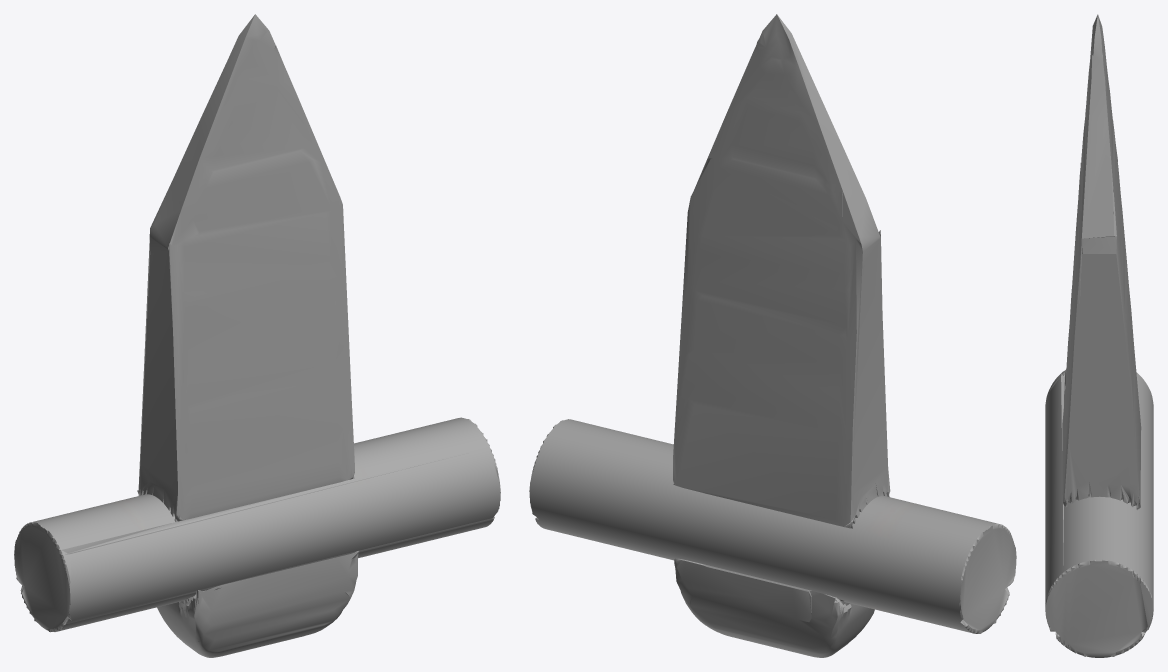
The picture shows the model from 3 angles, left to right: view 1: azimuth 30°, elevation 25°; view 2: azimuth 150°, elevation 25°; view 3: azimuth 270°, elevation 25°; orthographic projection. The views are drawn at different scales.
Parts seen in each view (by area): view 1: MeshDrawObject; view 2: MeshDrawObject; view 3: MeshDrawObject.
Boxes of the visible parts, x1,y1,x2,y2 form: MeshDrawObject: (14, 14, 500, 657); MeshDrawObject: (529, 14, 1016, 657); MeshDrawObject: (1045, 14, 1153, 657).
Size of the model in its own units: 129 by 180 by 29.26.
Materials: 1 (1 with a texture image).
